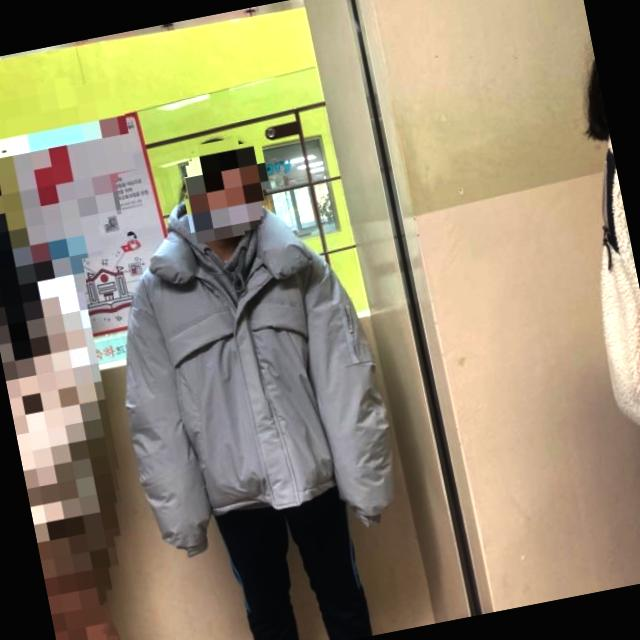padding: (85, 165, 408, 572)
trainingpants: (214, 479, 378, 640)
